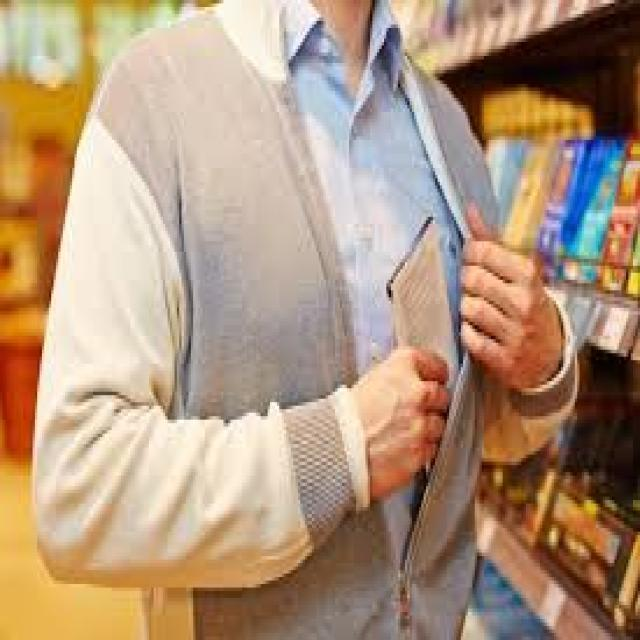Shoplifting: (33, 0, 586, 640)
